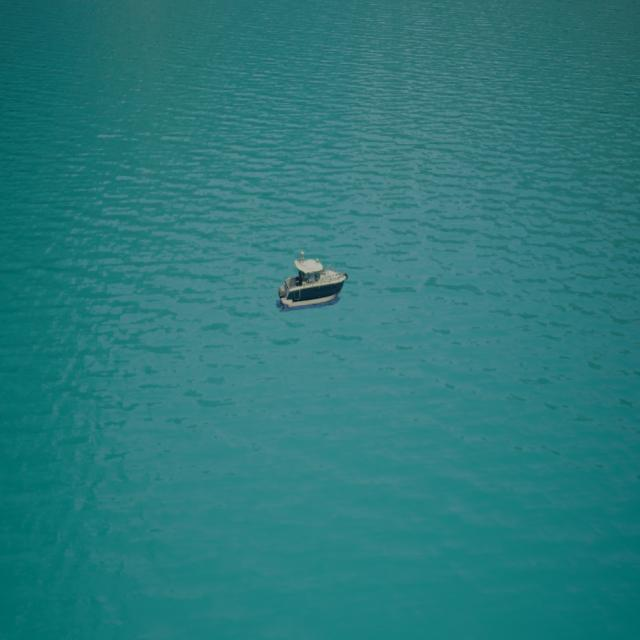ship: (278, 253, 348, 308)
